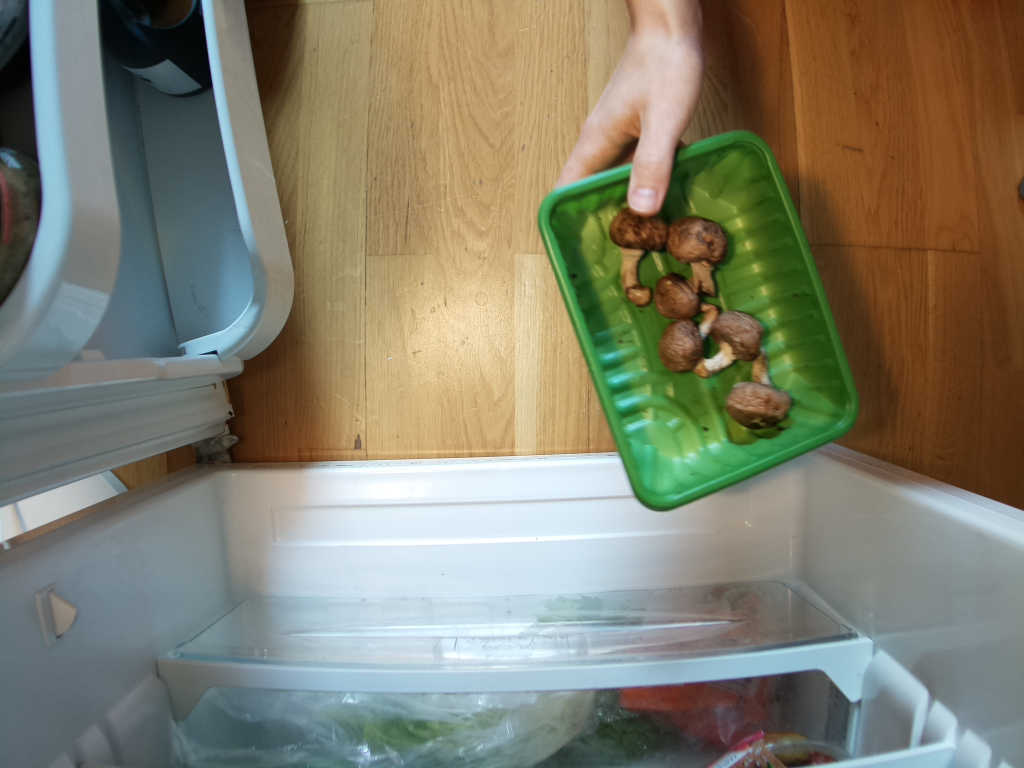mushrooms-bad: (541, 125, 862, 511)
